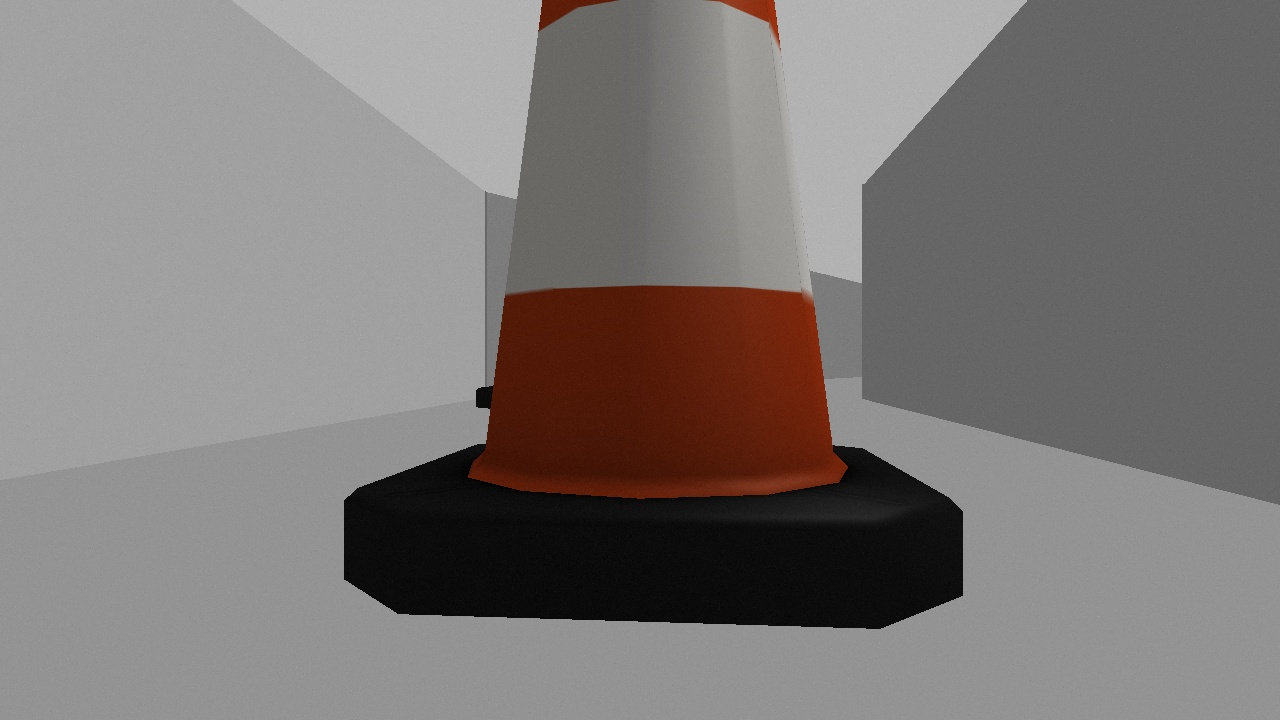barricade: (314, 1, 992, 655)
